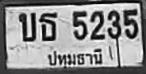2: (89, 10, 104, 39)
3: (107, 9, 120, 38)
5: (122, 8, 138, 38), (72, 10, 86, 39)
A24: (38, 12, 57, 41)
A26: (18, 11, 36, 41)
PTE: (46, 47, 105, 70)
